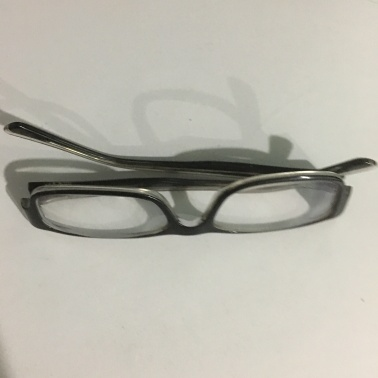glasses: (10, 111, 378, 242)
